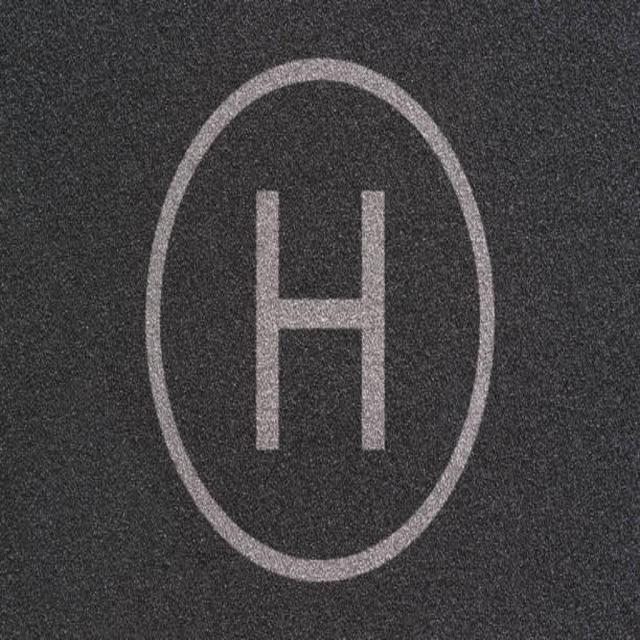helipad: (142, 58, 497, 582)
